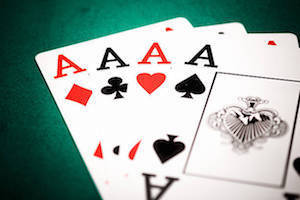AceOfClubs: (95, 34, 138, 174)
AceOfDiamonds: (30, 45, 101, 165)
AceOfHearts: (132, 28, 173, 139)
AceOfSpades: (175, 28, 300, 199)
